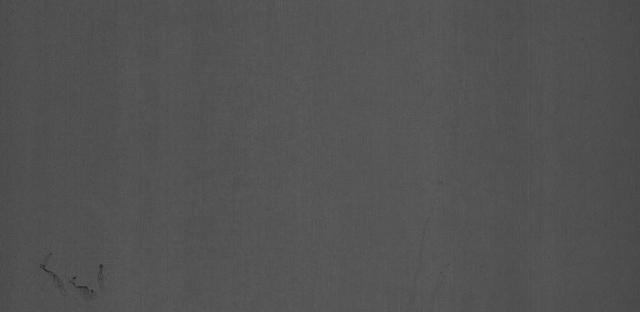water_spot: (28, 246, 122, 310)
